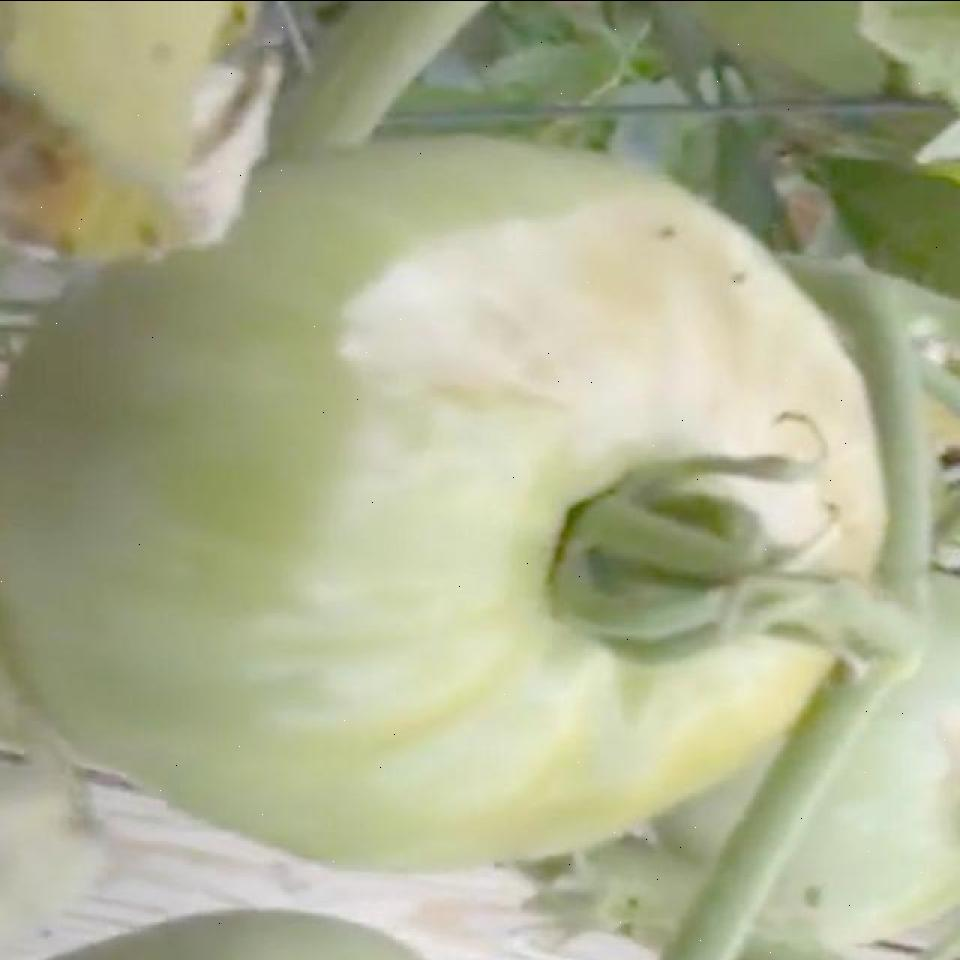Sunscald: (307, 162, 881, 578)
